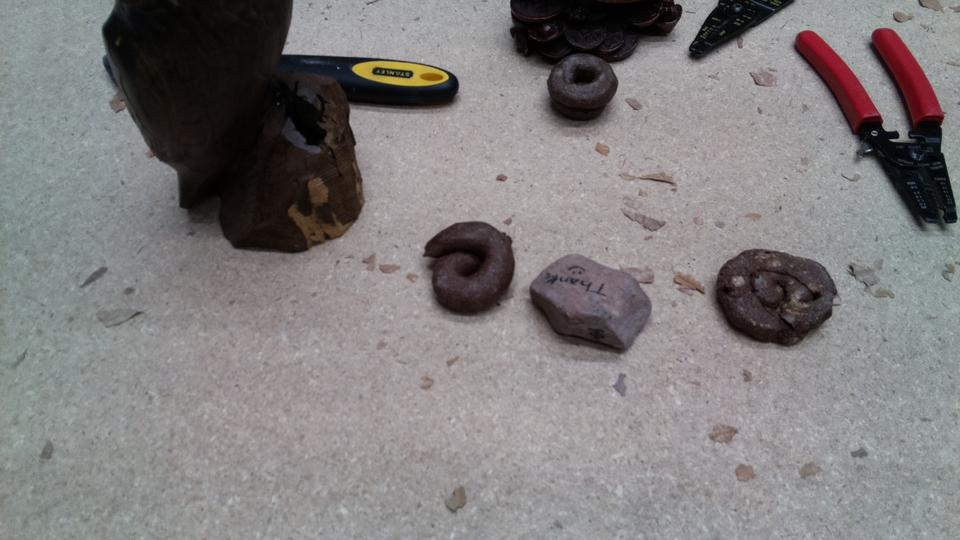poop: (711, 244, 841, 349), (421, 220, 516, 318), (546, 52, 621, 124)
